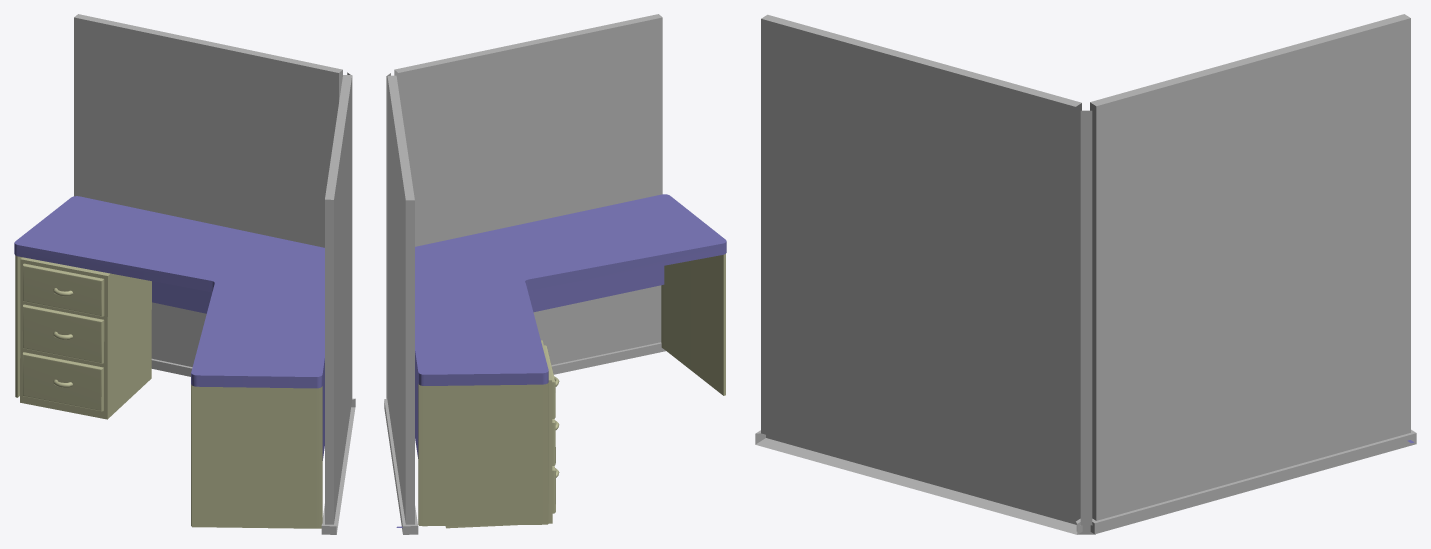
Rendered from DeskWithWall.fbx.
3 renders of one model, left to right at view 1: azimuth 30°, elevation 25°; view 2: azimuth 150°, elevation 25°; view 3: azimuth 270°, elevation 25°, orthographic. The views are drawn at different scales.
Parts seen in each view (by area): view 1: polySurface13.001; view 2: polySurface13.001; view 3: polySurface13.001.
Boxes of the visible parts, <box> form: polySurface13.001: <box>14,14,355,534</box>; polySurface13.001: <box>384,14,726,534</box>; polySurface13.001: <box>755,14,1416,534</box>.
Size of the model in its own units: 227 by 292 by 408.
